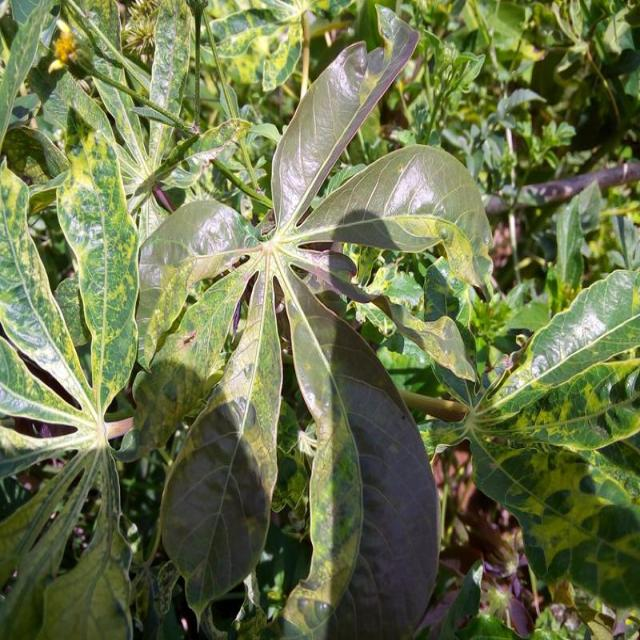cassava leaf: (130, 3, 493, 637), (280, 265, 442, 638)
